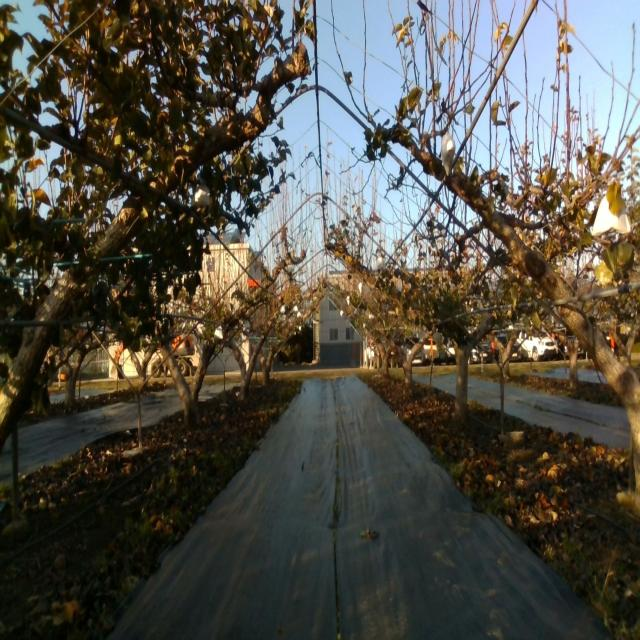pearbags: (592, 196, 632, 238), (441, 131, 456, 177), (191, 178, 210, 206)
